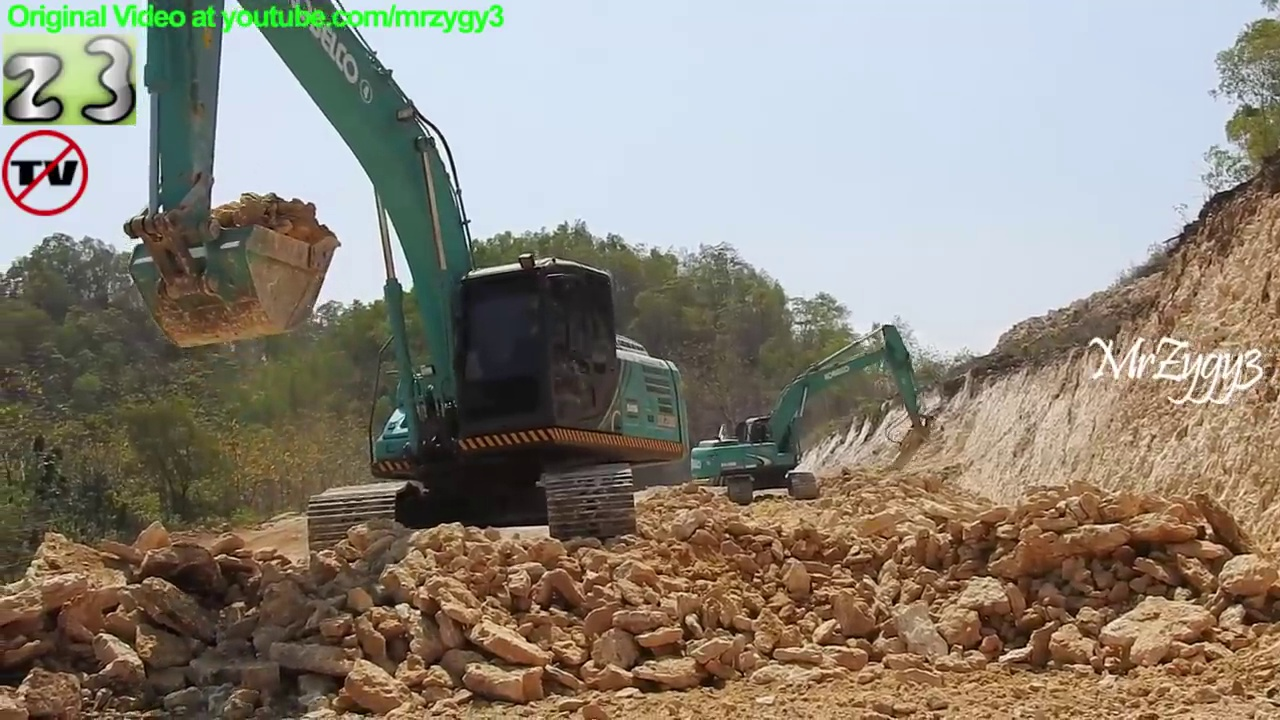excavator: (117, 1, 698, 588)
excavator breaker: (686, 320, 938, 509)
